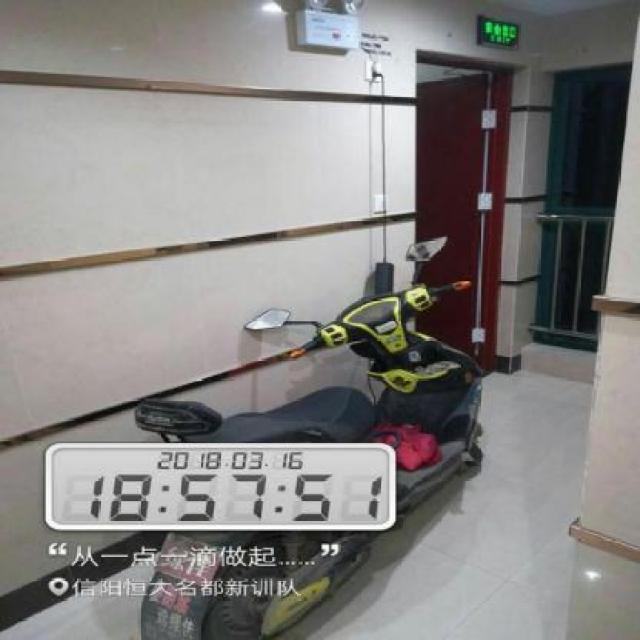exit_sign: (468, 11, 532, 55)
